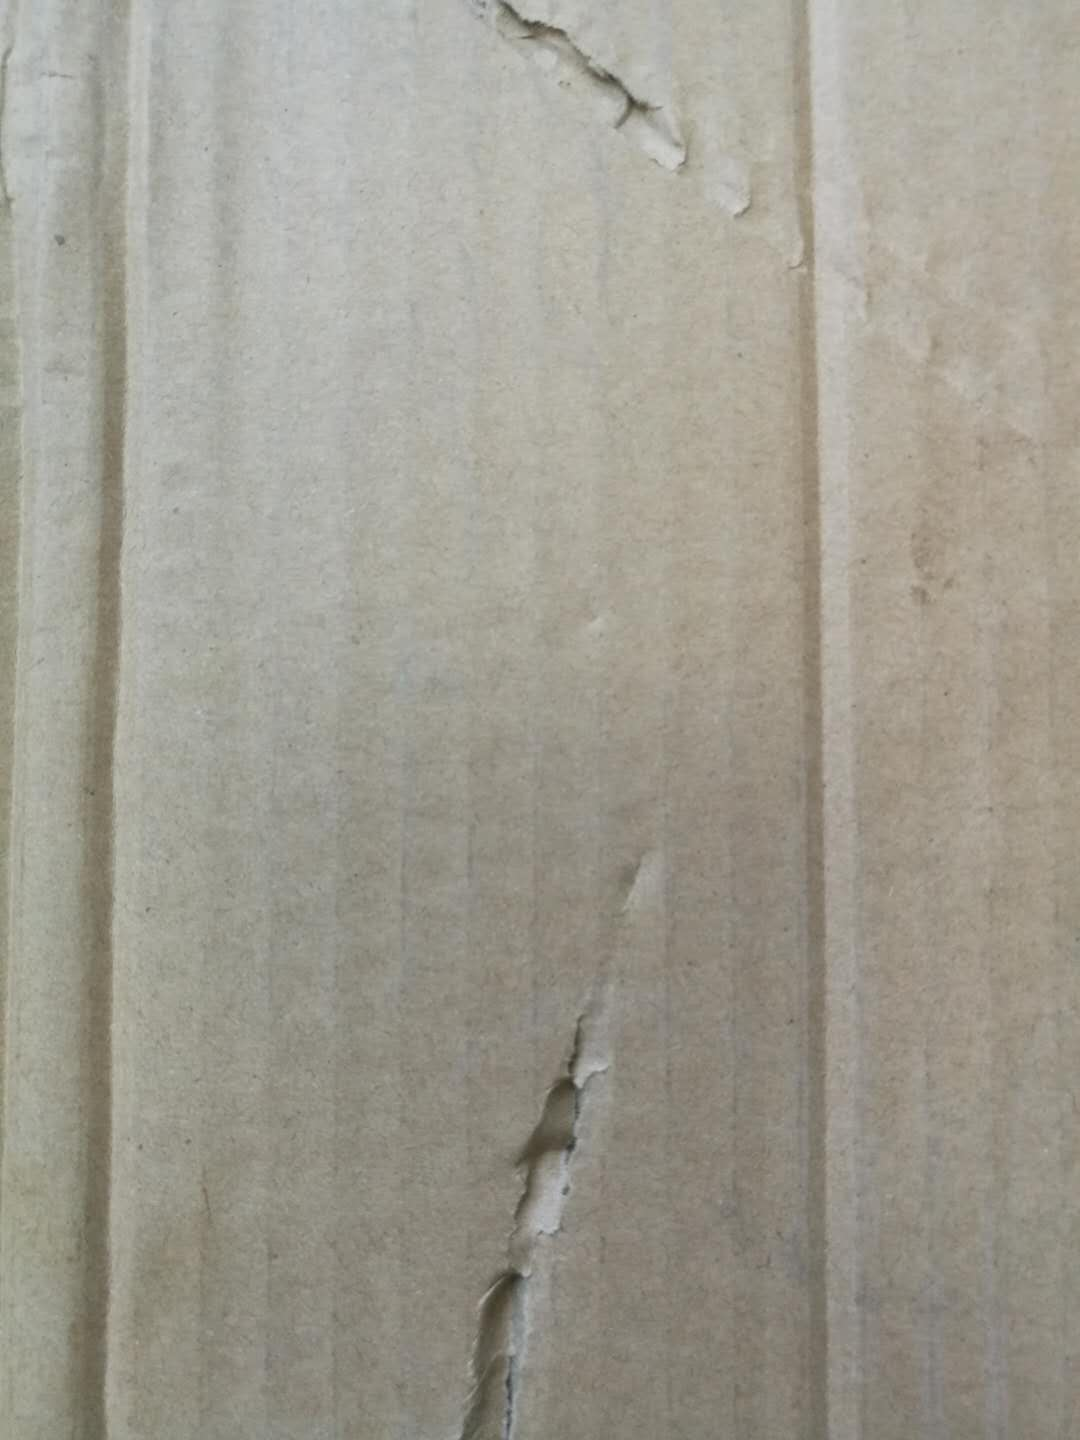defect: (1, 2, 225, 1438), (442, 2, 1080, 495), (748, 5, 923, 1435), (428, 807, 685, 1440)
